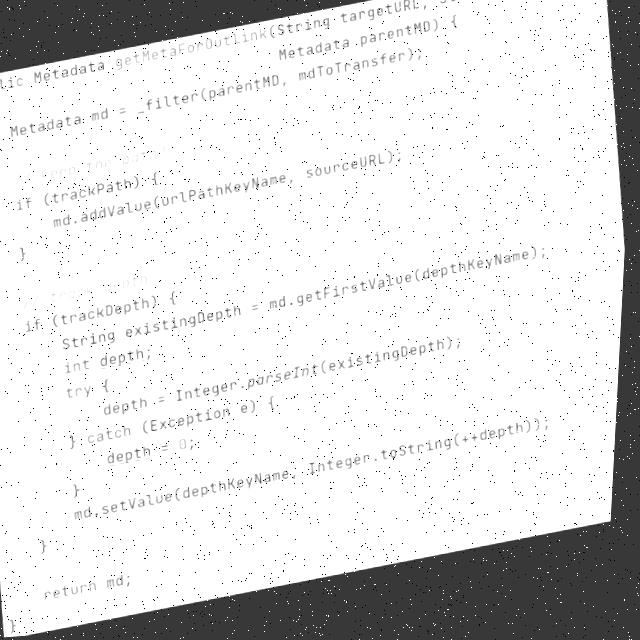code_screen: (0, 0, 624, 637)
